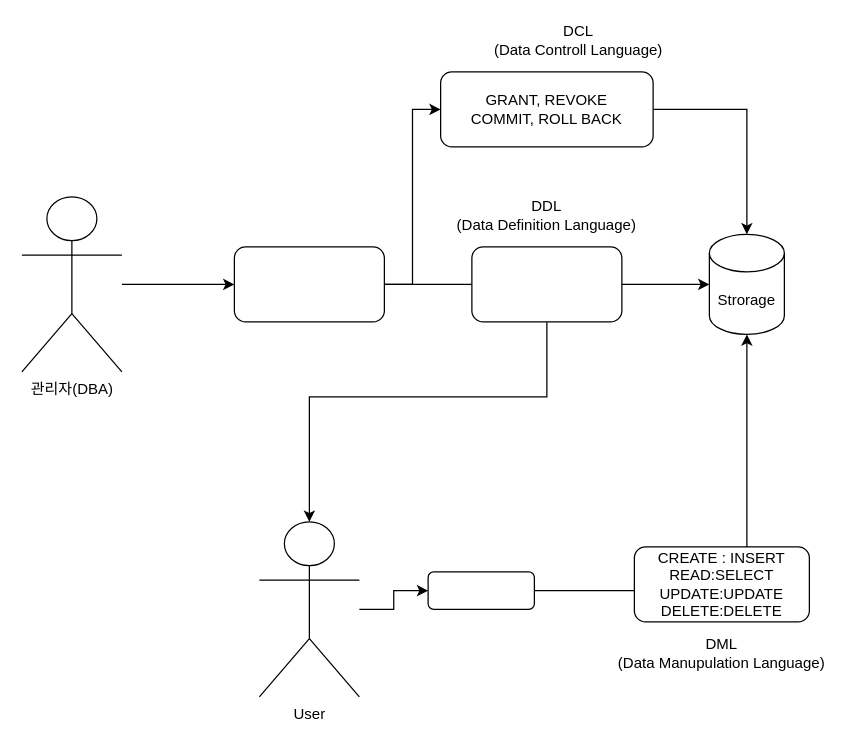
Some shapes in this 856 by 744 pixel diagram are drawn without their labels. The shapes that lost their labels are listed below. From the top down, each one's box as (x1, y1, x2, y2) in pixels, then its label:
(233, 246, 384, 322): Sys 로그인
(471, 246, 622, 322): DB,User Create DB,User DROP DB Alter
(427, 571, 534, 609): User 로그인
